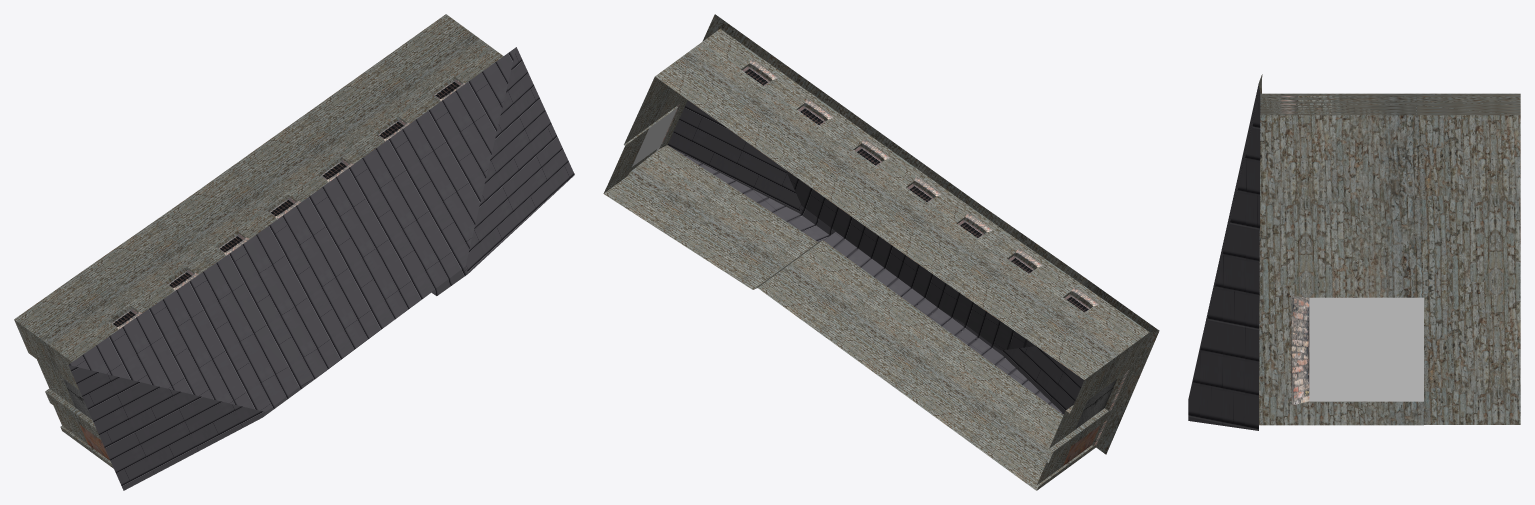
Rendered from Kooli_9_2.obj.
3 views of the same model, side by side, from view 1: azimuth 30°, elevation 25°; view 2: azimuth 150°, elevation 25°; view 3: azimuth 270°, elevation 25° (orthographic). The views are drawn at different scales.
Parts seen in each view (by area): view 1: Kooli_9_2; view 2: Kooli_9_2; view 3: Kooli_9_2.
Part boxes in pixels (x1,y1,x2,y2): Kooli_9_2: (14,14,574,490); Kooli_9_2: (603,14,1159,490); Kooli_9_2: (1188,74,1520,430).
Size of the model in its own units: 24.49 by 16.09 by 7.01.
